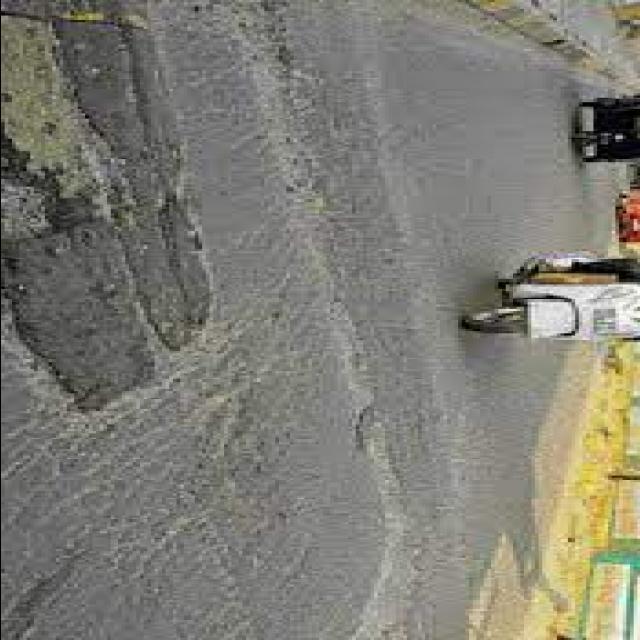speedbreaker: (271, 0, 501, 589)
